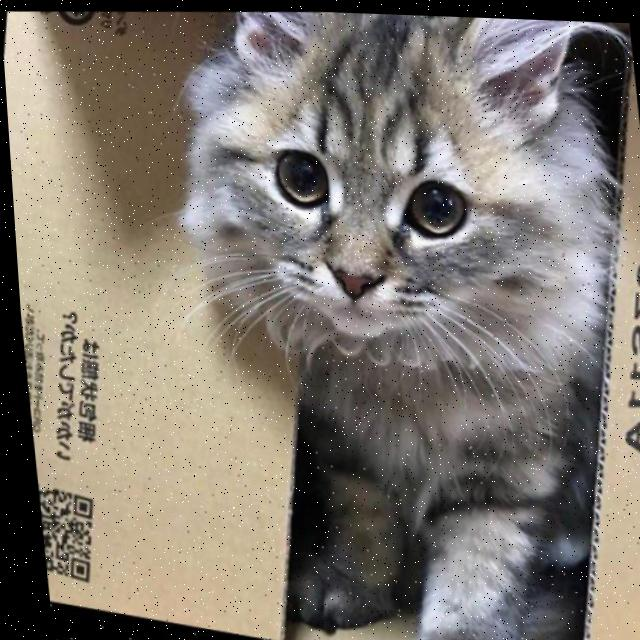Cats: (78, 2, 640, 640)
